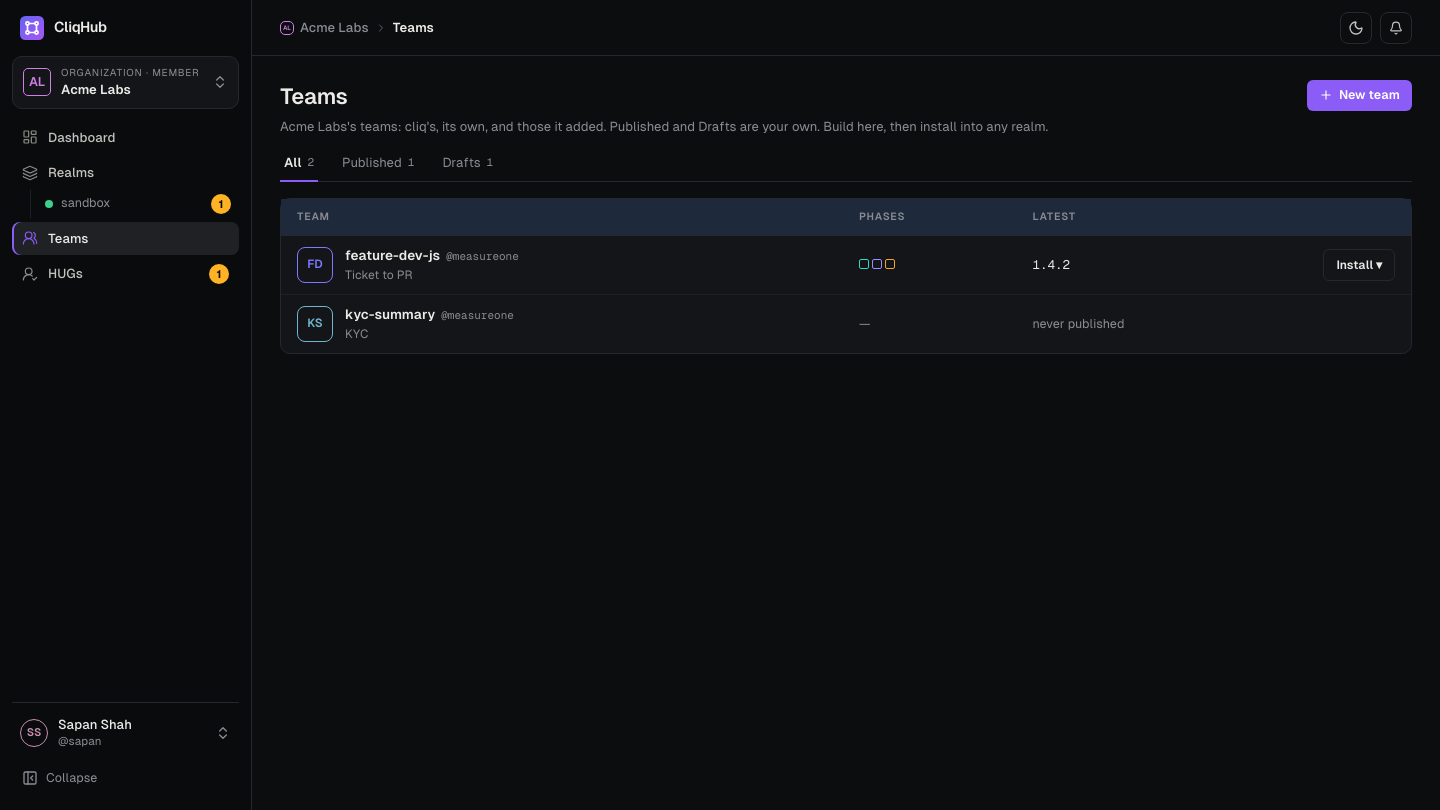
Test: Build › Teams list › install from the list: realms of the current org only, one request with realm_ids
The width and height of the screenshot is (1440, 810).
Click the button "Install ▾" at coordinates (1359, 265), box [1323,249,1395,281]
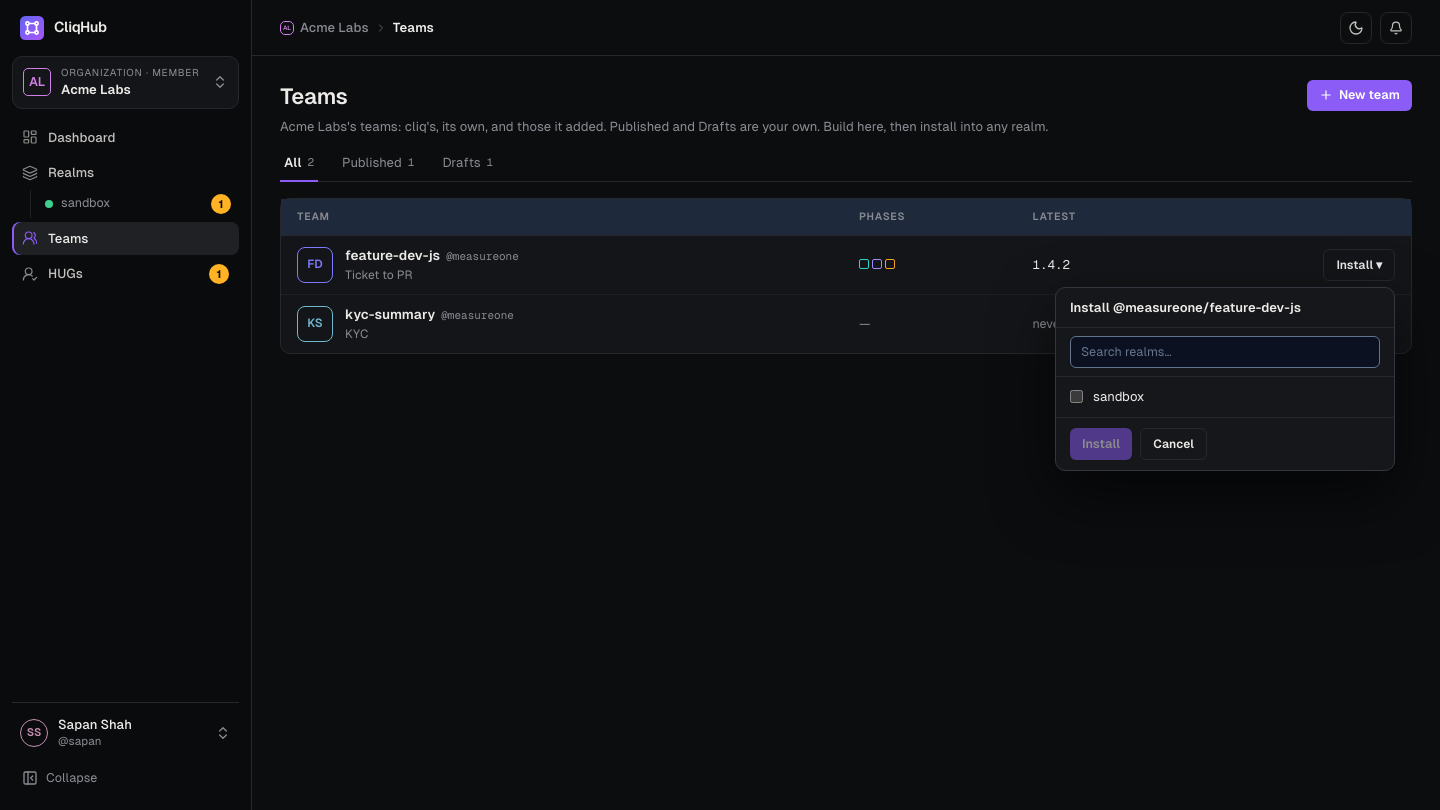
Click the checkbox labelled "sandbox" at coordinates (1076, 397), box [1070,390,1083,403]
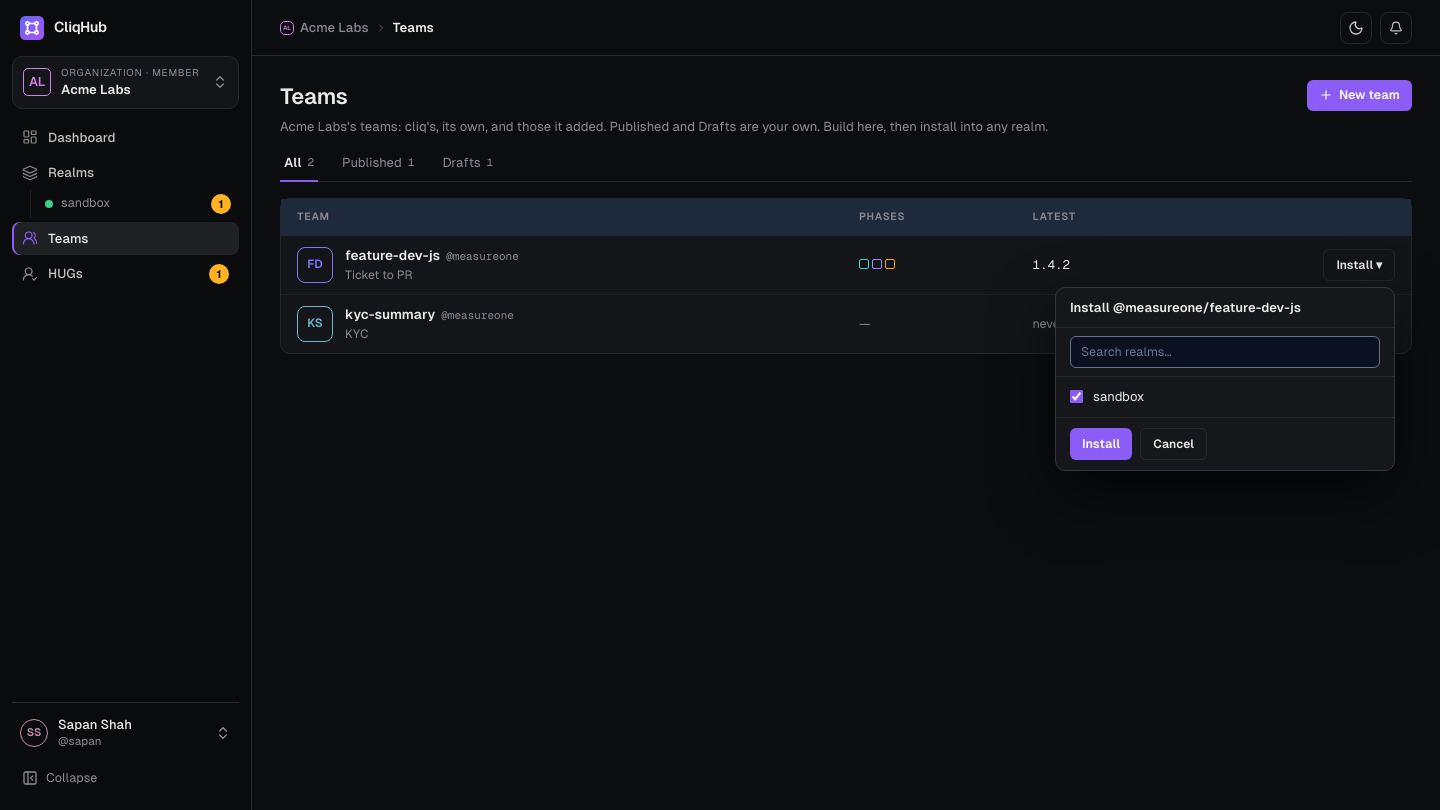
Click the button "Install" at coordinates (1101, 444), box [1070,428,1132,460]
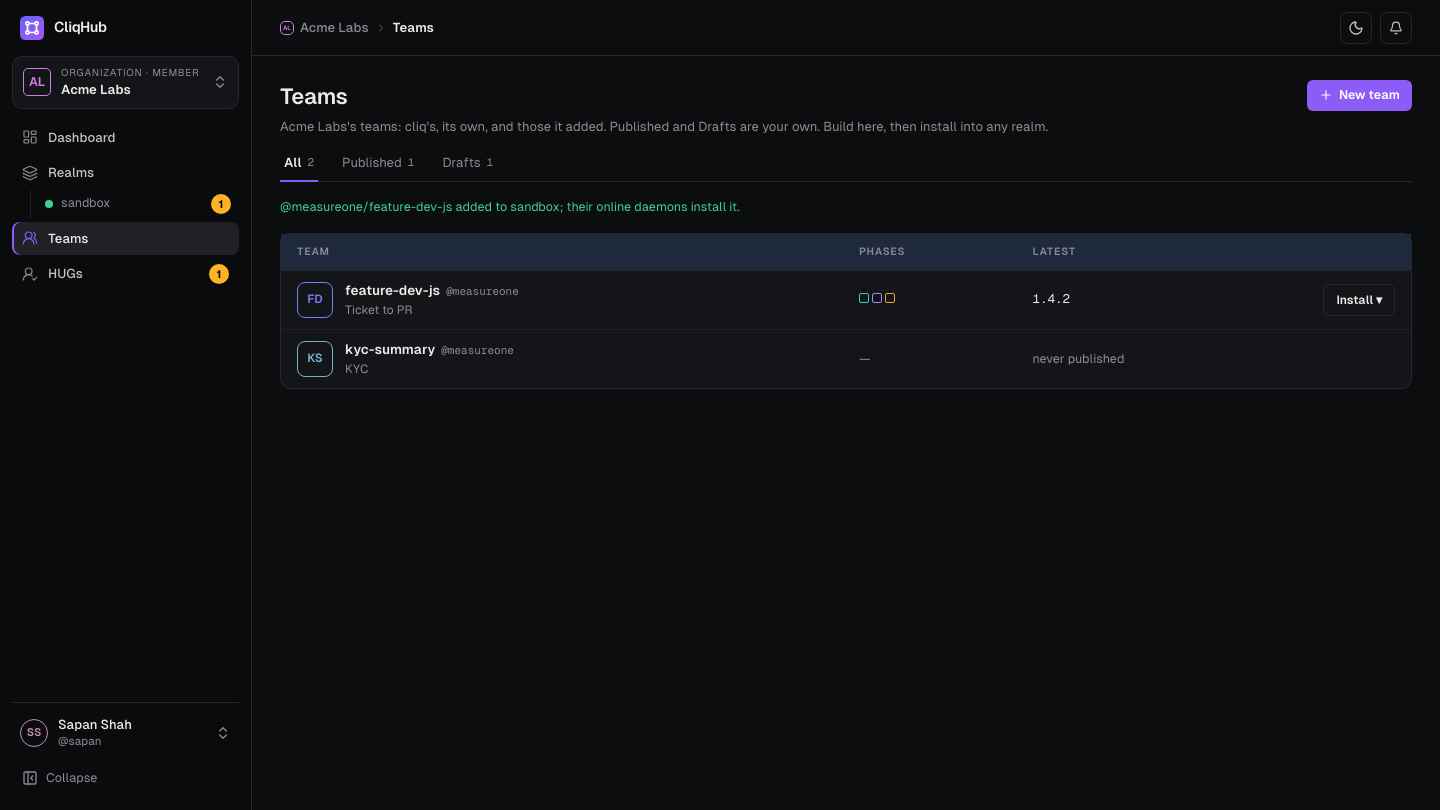
Result: the text "@measureone/feature-dev-js added to sandbox; their online daemons install it." is shown at [280,199,740,214]
